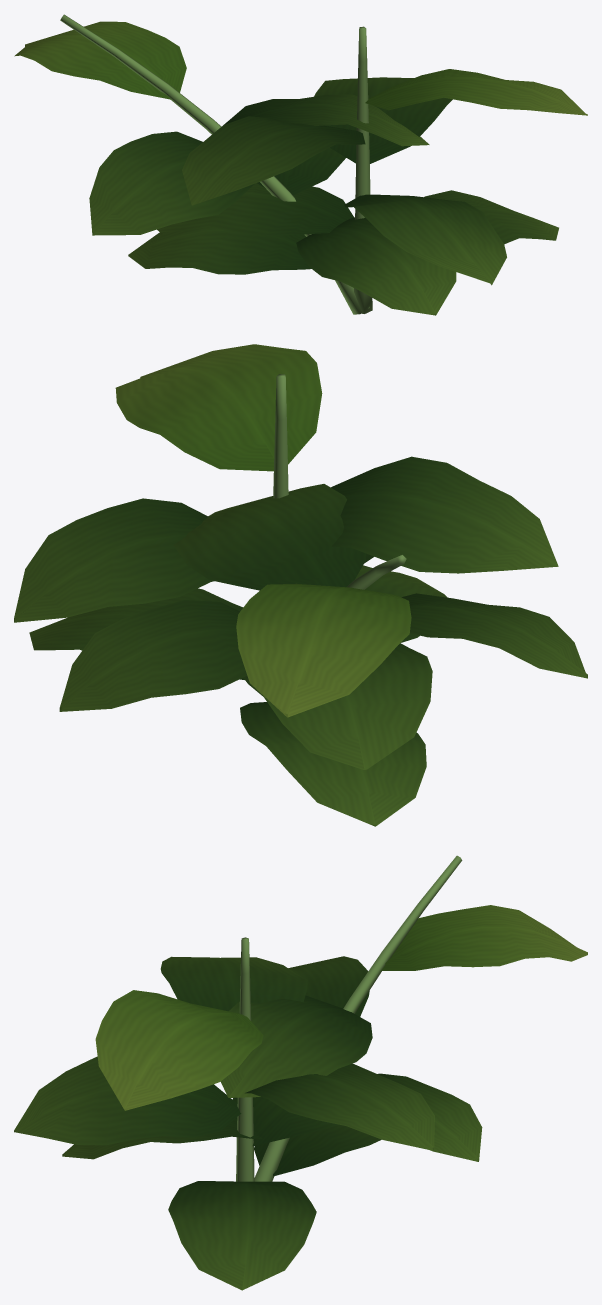
File: daisy-05-lod.glb
The picture shows the model from 3 angles, top to bottom: view 1: azimuth 30°, elevation 25°; view 2: azimuth 150°, elevation 25°; view 3: azimuth 270°, elevation 25°; orthographic projection. The views are drawn at different scales.
Visible parts, largest first — view 1: daisy_stage_05_leaf_veins.009, daisy_stage_05_young_leaf.009, daisy_stage_05_stem_fibres.009; view 2: daisy_stage_05_leaf_veins.009, daisy_stage_05_young_leaf.009, daisy_stage_05_stem_fibres.009; view 3: daisy_stage_05_leaf_veins.009, daisy_stage_05_young_leaf.009, daisy_stage_05_stem_fibres.009.
Boxes of the visible parts, <box> form: daisy_stage_05_leaf_veins.009: <box>89,77,558,315</box>; daisy_stage_05_young_leaf.009: <box>14,21,587,115</box>; daisy_stage_05_stem_fibres.009: <box>60,14,372,314</box>; daisy_stage_05_leaf_veins.009: <box>14,456,587,826</box>; daisy_stage_05_young_leaf.009: <box>115,344,411,717</box>; daisy_stage_05_stem_fibres.009: <box>273,374,406,589</box>; daisy_stage_05_leaf_veins.009: <box>14,956,482,1290</box>; daisy_stage_05_young_leaf.009: <box>95,905,587,1110</box>; daisy_stage_05_stem_fibres.009: <box>236,855,462,1181</box>.
Bounding box in the file's own units: 0.2019 × 0.1231 × 0.2176.
Materials: 3 (2 with a texture image).
